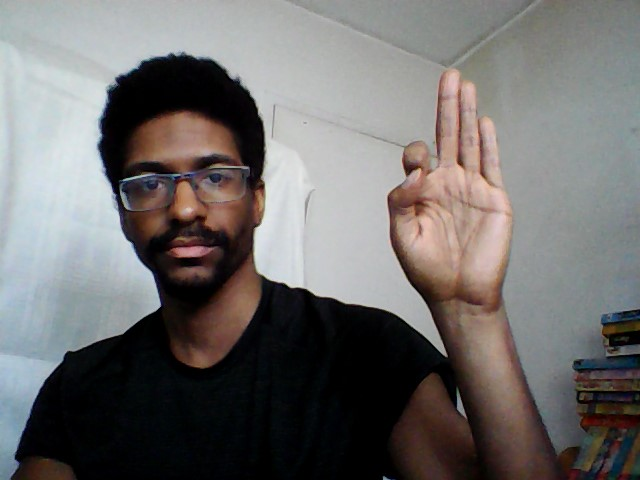f: (383, 64, 518, 305)
